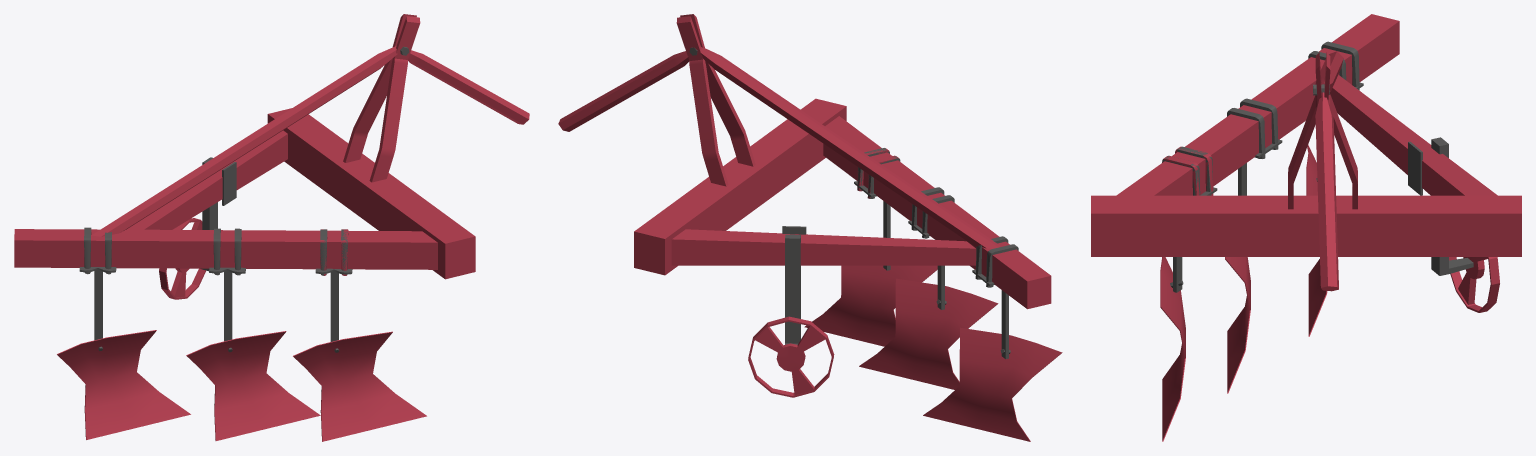
Rendered from plowing_machine1.fbx.
3 views of the same model, side by side, from view 1: azimuth 30°, elevation 25°; view 2: azimuth 150°, elevation 25°; view 3: azimuth 270°, elevation 25° (orthographic). The views are drawn at different scales.
Visible parts, largest first — view 1: plowing_machine; view 2: plowing_machine; view 3: plowing_machine.
Boxes of the visible parts, x1,y1,x2,y2 form: plowing_machine: [14, 14, 529, 441]; plowing_machine: [558, 14, 1062, 441]; plowing_machine: [1091, 14, 1521, 441].
Bounding box in the file's own units: 510 × 336 × 315.
